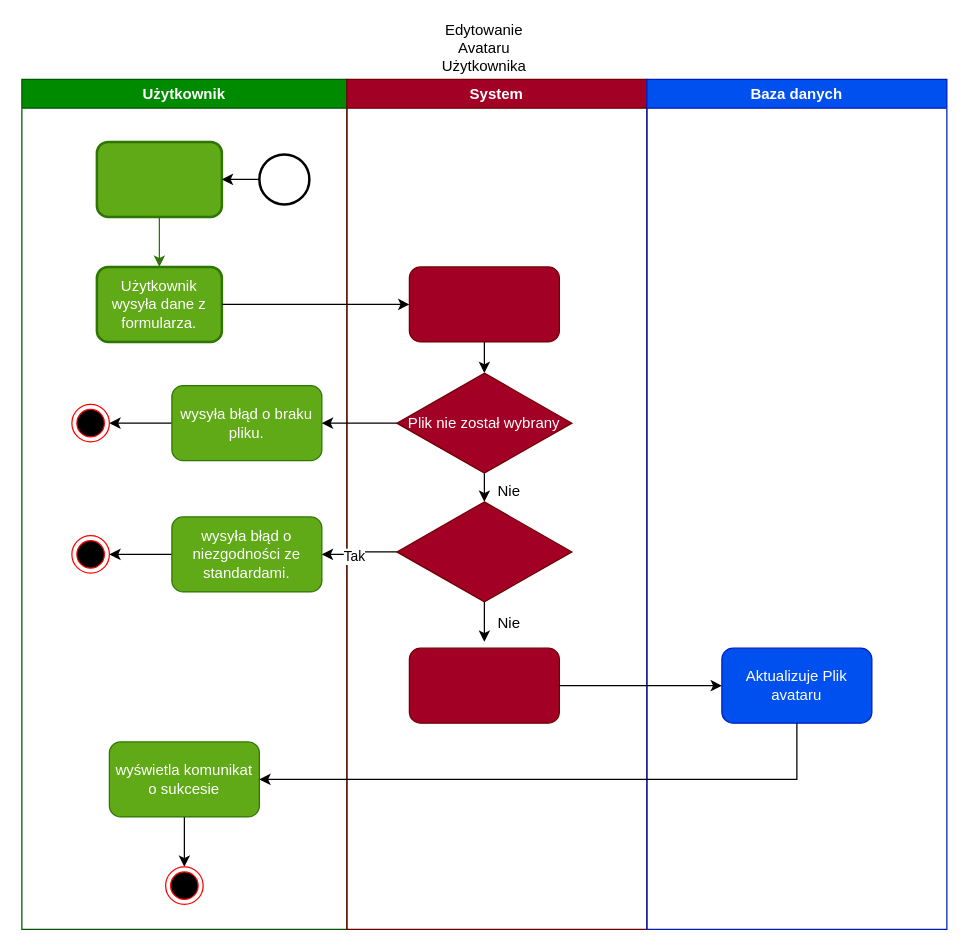
This 969x951 diagram has some shape labels left out. Here are the shapes that lost their labels. From the top down, the box of each, then its label:
(95, 140, 222, 218): Użytkownik wybiera nowy plik graficzny.
(408, 266, 559, 342): System waliduje wprowadzone dane
(396, 501, 572, 602): Plik jest niezgodny ze standardami
(408, 647, 559, 723): Wysyła nową Plik avataru do bazy danych
